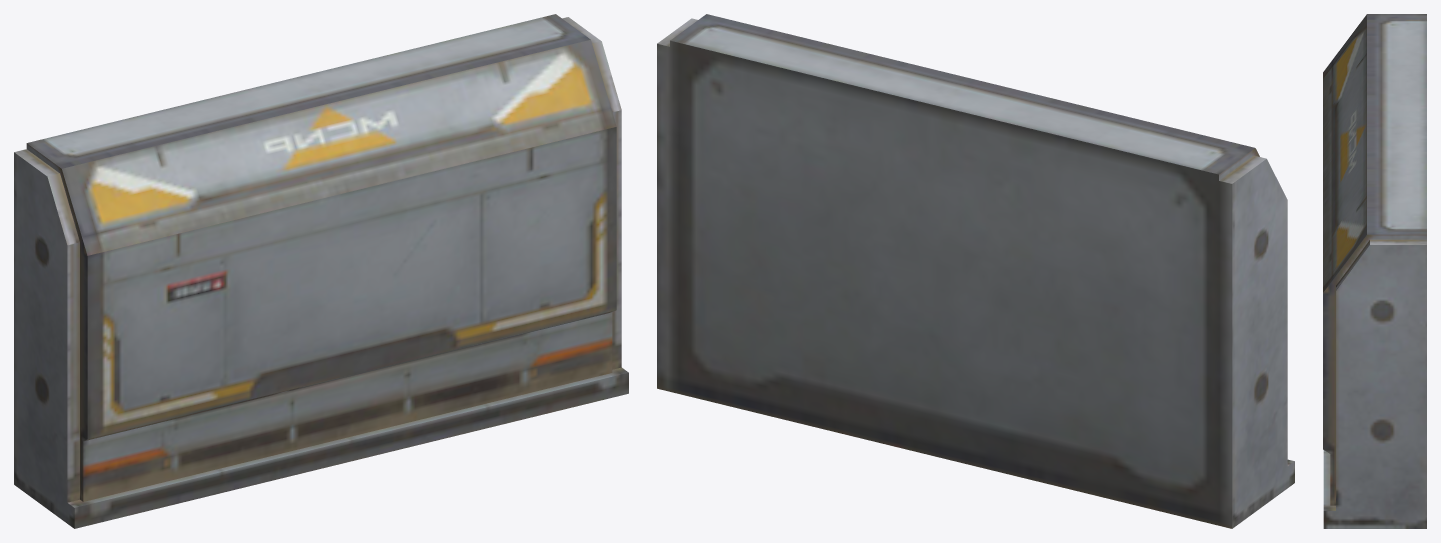
Rendered from Demo_weibian.FBX.
3 renders of one model, left to right at view 1: azimuth 30°, elevation 25°; view 2: azimuth 150°, elevation 25°; view 3: azimuth 270°, elevation 25°, orthographic. The views are drawn at different scales.
Parts seen in each view (by area): view 1: Demo_weibian; view 2: Demo_weibian; view 3: Demo_weibian.
Part boxes in pixels (left/top/right/bottom): Demo_weibian: left=14, top=14, right=628, bottom=528; Demo_weibian: left=657, top=14, right=1294, bottom=528; Demo_weibian: left=1323, top=14, right=1426, bottom=528.
Size of the model in its own units: 10.18 by 5.94 by 1.94.
